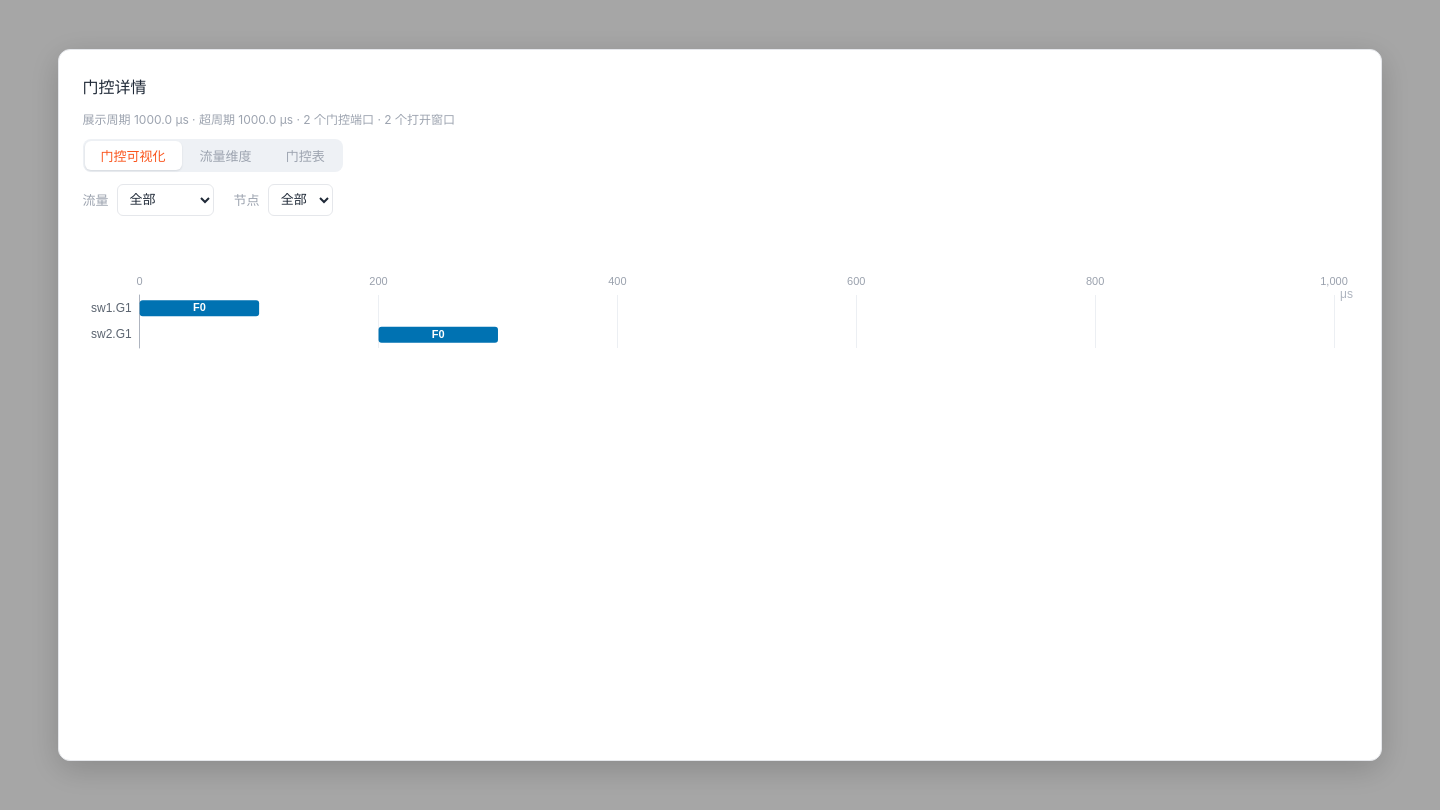
Test case: GclDetailModal › R7 节点筛选：行数变化 + 条数文案联动
Expected: the panel with test id "gcl-gantt-slot" is shown, [83,228,1357,356]
Click the tab "门控表": (305, 155) [270,141,341,170]
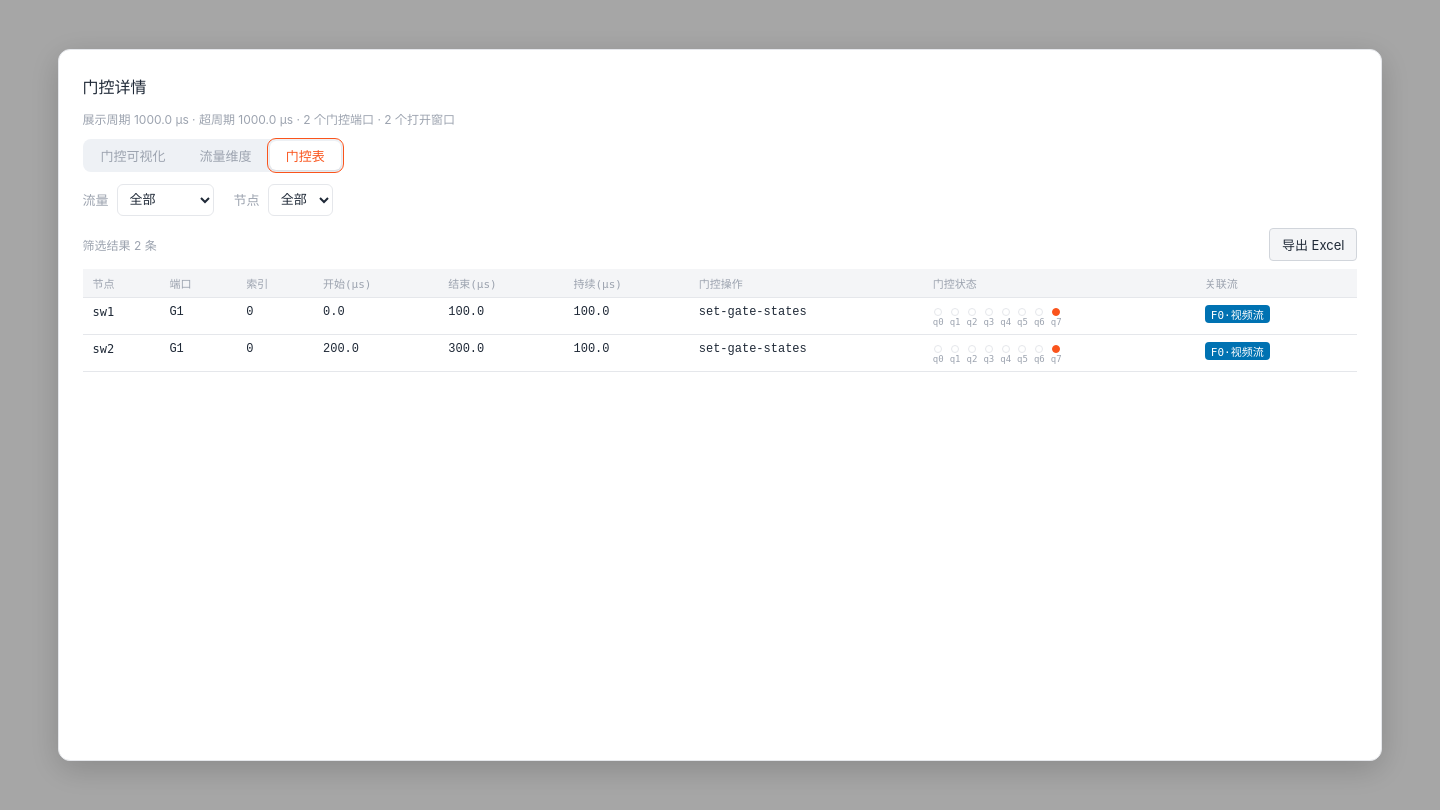
Now the text "筛选结果 2 条" is shown, box [83,236,157,253]
Select "sw2" in the dropdown labelled "节点": (300, 200) [268,184,333,216]
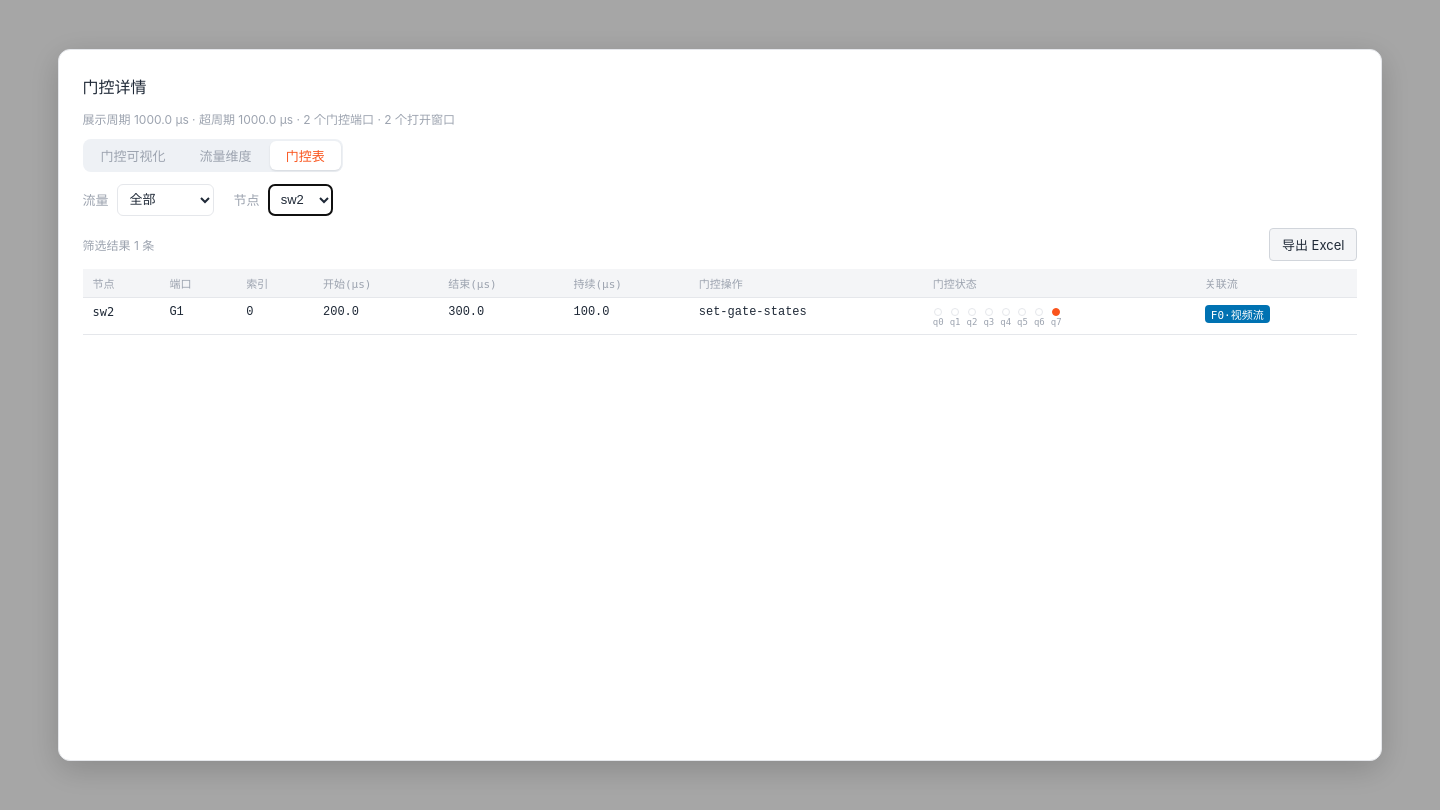
Now the cell "sw2" is shown, box [83,297,159,334]
Now the text "筛选结果 1 条" is shown, box [83,236,154,253]
Now the cell "sw1" is gone
